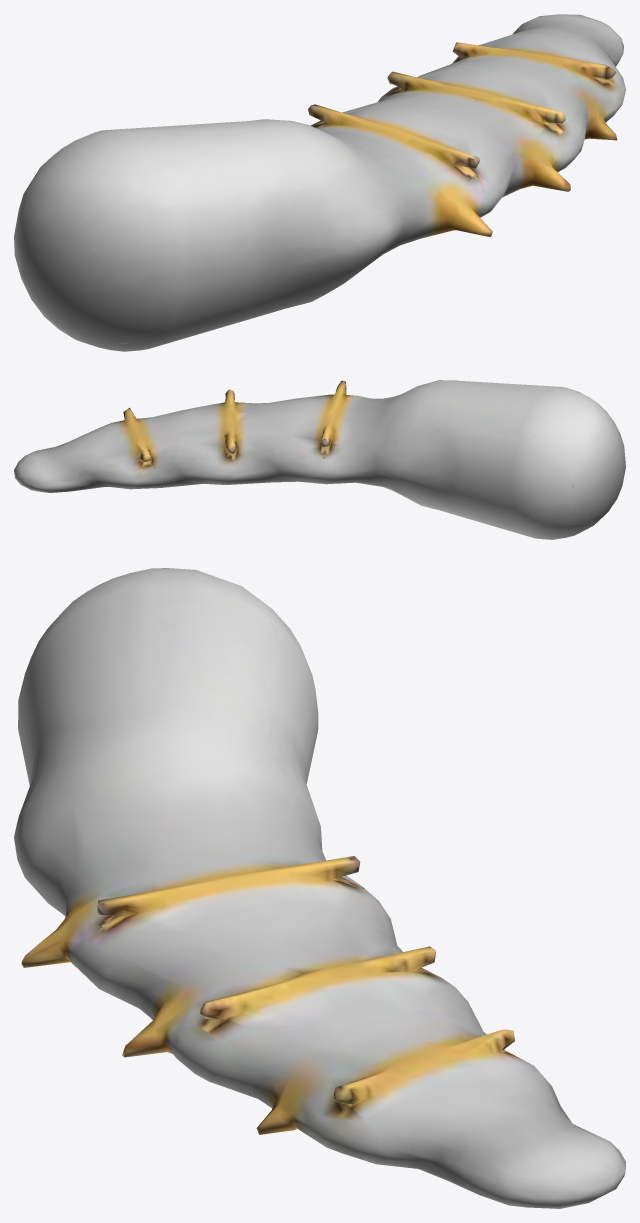
The model's file is rua_chantruoc.glb.
3 views of the same model, one above another, from view 1: azimuth 30°, elevation 25°; view 2: azimuth 150°, elevation 25°; view 3: azimuth 270°, elevation 25° (orthographic). The views are drawn at different scales.
Parts seen in each view (by area): view 1: rua_chantruoc; view 2: rua_chantruoc; view 3: rua_chantruoc.
Boxes of the visible parts, x1=… form: rua_chantruoc: x1=14, y1=14, x2=625, y2=351; rua_chantruoc: x1=14, y1=380, x2=625, y2=539; rua_chantruoc: x1=14, y1=568, x2=625, y2=1208.
Bounding box in the file's own units: 0.7504 × 0.1994 × 0.4071.
1 material, 1 textured.
